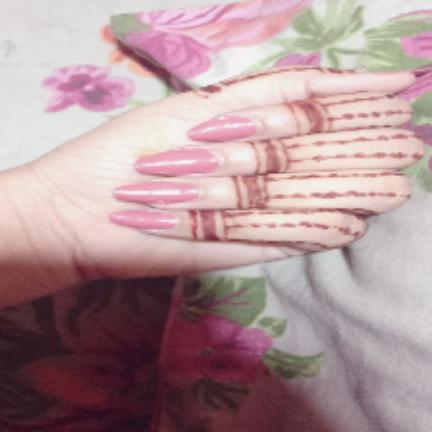Nail: (134, 148, 219, 175), (113, 182, 199, 204), (189, 116, 256, 141), (110, 210, 179, 230)
